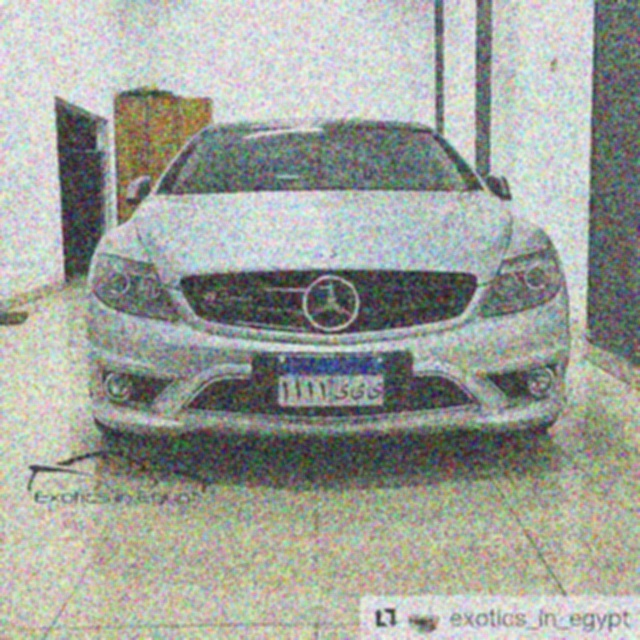License Plate: (274, 352, 388, 410)
